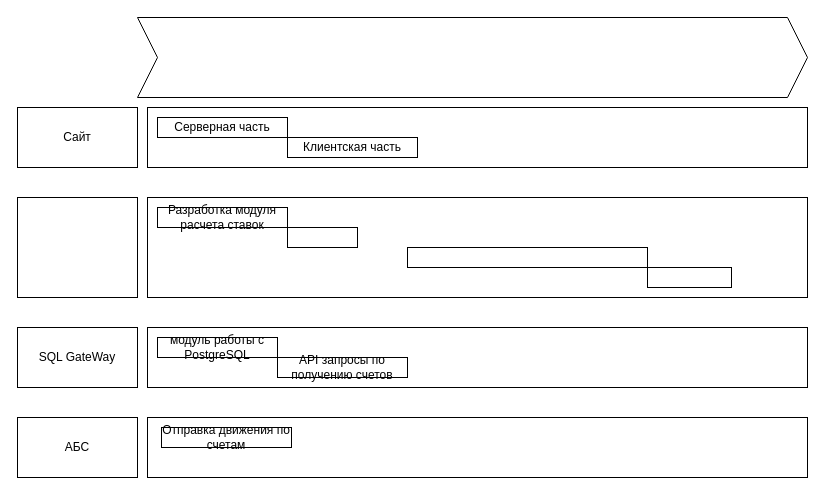
Image size: 825x495. Some labels were removed from this diagram. Here are the shapes that lost their labels. From the top down, the centre of each, then its label:
[77,247]: Новый интернет банк
[322,237]: Публикация ставок
[527,257]: Получение движения по счетам
[689,277]: Авто-загрузка ставок ЦБ
